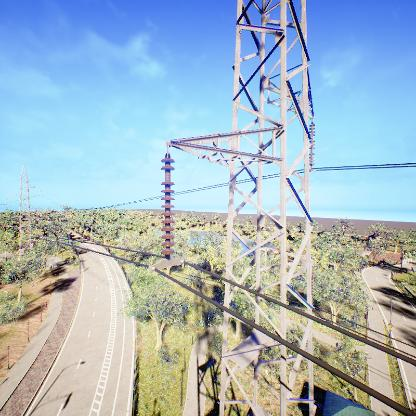insulator: (159, 154, 179, 261), (307, 122, 316, 168)
